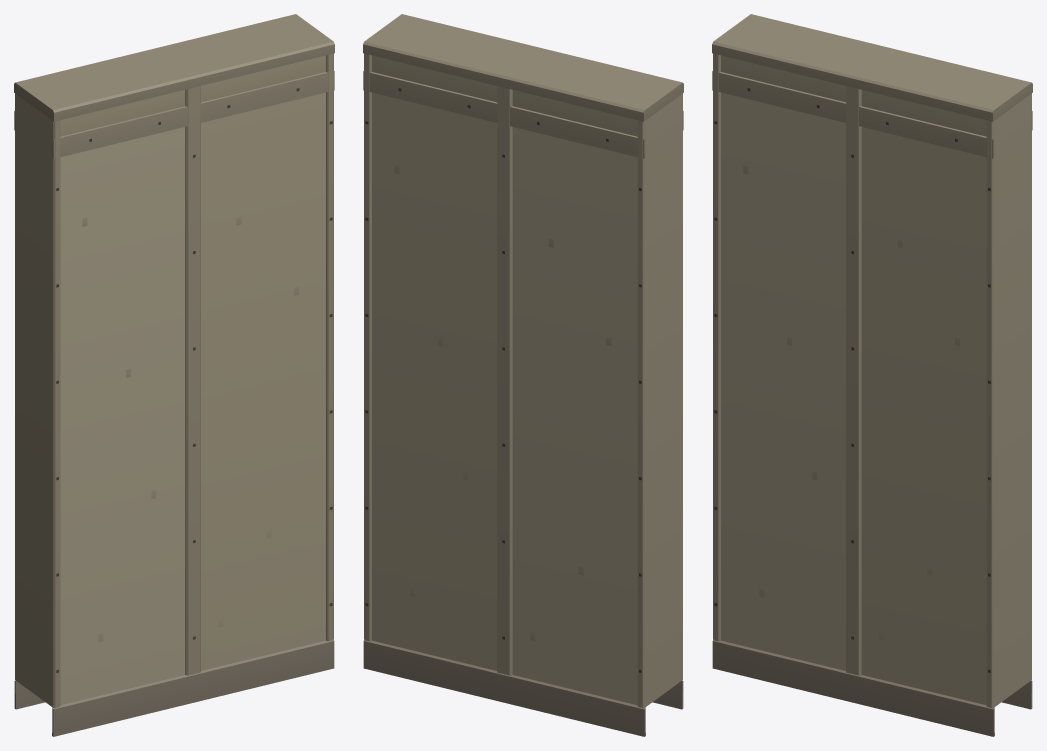
Rendered from plywood.glb.
The picture shows the model from 3 angles, left to right: view 1: azimuth 30°, elevation 25°; view 2: azimuth 150°, elevation 25°; view 3: azimuth 330°, elevation 25°; orthographic projection.
Parts seen in each view (by area): view 1: plywood; view 2: plywood; view 3: plywood.
Boxes of the visible parts, box(x1,y1,x2,y2) form: plywood: box(14, 14, 334, 736); plywood: box(363, 14, 683, 736); plywood: box(712, 14, 1032, 736).
Bounding box in the file's own units: 1.22 × 2.6 × 0.3.
